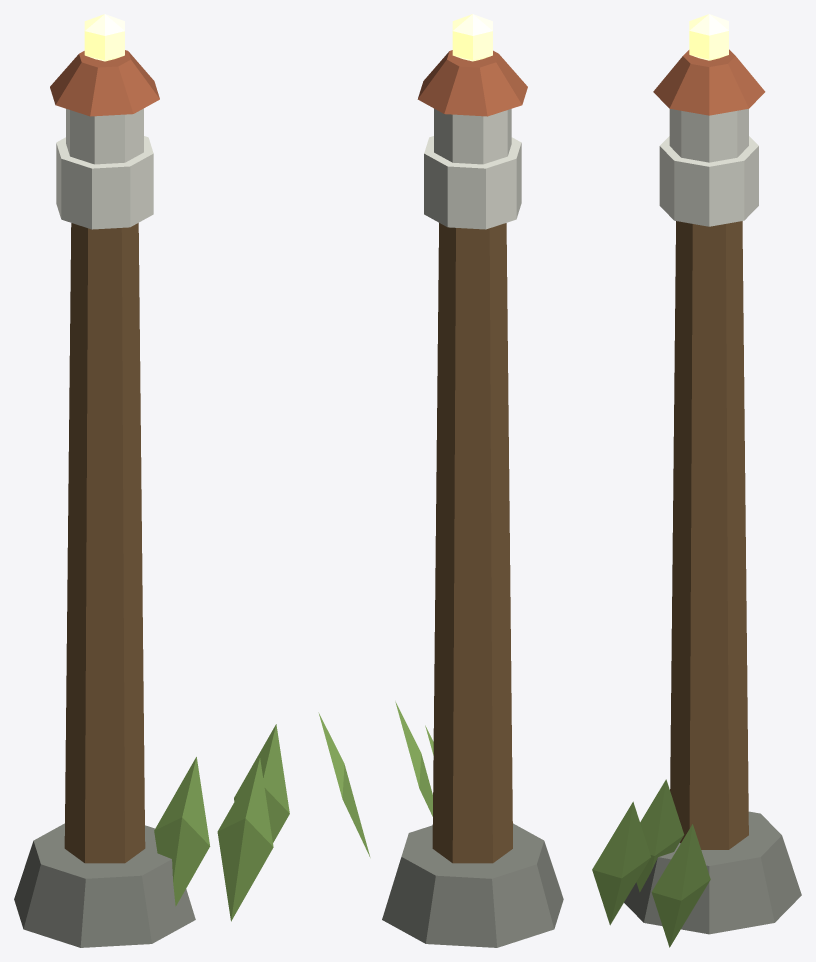
The model's file is pylon.glb.
The picture shows the model from 3 angles, left to right: view 1: azimuth 30°, elevation 25°; view 2: azimuth 150°, elevation 25°; view 3: azimuth 270°, elevation 25°; orthographic projection.
Parts seen in each view (by area): view 1: Pylon_timber_pole, Pylon_stone_foot, Pylon_ceramic_insulator, Pylon_copper_cap, decor_Grass.002, decor_Grass, Pylon_ceramic_insulator.001, decor_Grass.001, Pylon_lamp; view 2: Pylon_timber_pole, Pylon_stone_foot, Pylon_ceramic_insulator, Pylon_copper_cap, Pylon_ceramic_insulator.001, Pylon_lamp, decor_Grass.001, decor_Grass.002; view 3: Pylon_timber_pole, Pylon_stone_foot, Pylon_ceramic_insulator, Pylon_copper_cap, Pylon_ceramic_insulator.001, decor_Grass.001, decor_Grass.002, decor_Grass, Pylon_lamp.
Boxes of the visible parts, x1,y1,x2,y2 form: Pylon_timber_pole: (64,223,145,863); Pylon_stone_foot: (14,823,195,947); Pylon_ceramic_insulator: (56,136,153,229); Pylon_copper_cap: (50,50,159,116); decor_Grass.002: (217,758,273,921); decor_Grass: (154,757,210,906); Pylon_ceramic_insulator.001: (66,108,143,164); decor_Grass.001: (234,724,289,842); Pylon_lamp: (84,14,124,61); Pylon_timber_pole: (432,223,512,863); Pylon_stone_foot: (382,823,563,947); Pylon_ceramic_insulator: (424,136,521,229); Pylon_copper_cap: (417,50,527,116); Pylon_ceramic_insulator.001: (434,108,511,164); Pylon_lamp: (452,14,492,61); decor_Grass.001: (318,712,370,857); decor_Grass.002: (395,701,432,816); Pylon_timber_pole: (670,221,748,849); Pylon_stone_foot: (624,811,801,934); Pylon_ceramic_insulator: (659,136,758,226); Pylon_copper_cap: (653,49,765,115); Pylon_ceramic_insulator.001: (669,109,748,162); decor_Grass.001: (651,824,710,947); decor_Grass.002: (592,801,650,925); decor_Grass: (636,779,684,892); Pylon_lamp: (689,14,728,60).
Size of the model in its own units: 0.42 by 1.47 by 0.3172.
